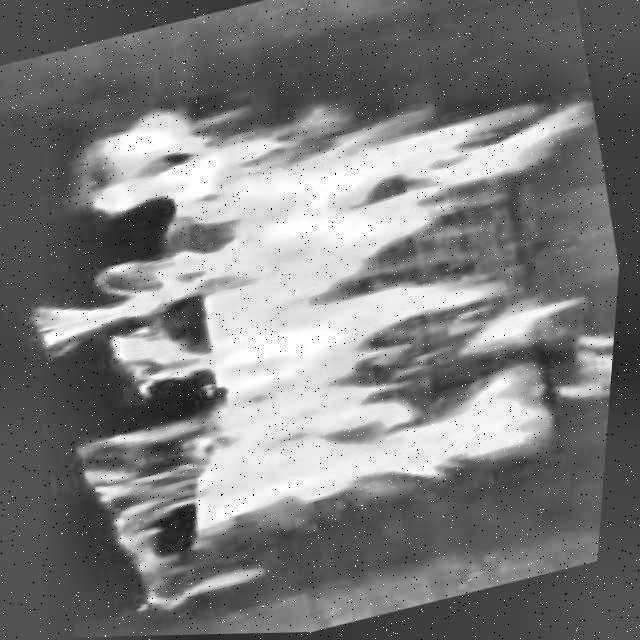Smoke: (0, 0, 640, 628)
